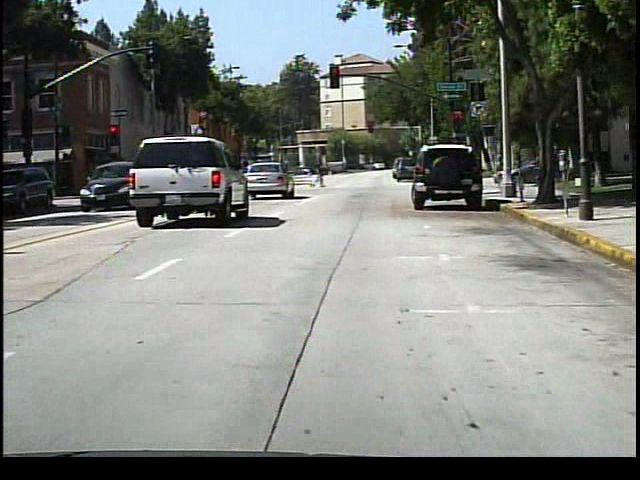person: (547, 140, 567, 187), (311, 157, 329, 190), (459, 152, 476, 184)
